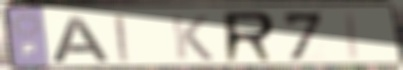7: (281, 11, 327, 62)
A: (49, 15, 113, 64)
I: (111, 13, 135, 64), (344, 10, 363, 62)
K: (168, 13, 216, 62)
R: (221, 9, 278, 65)
